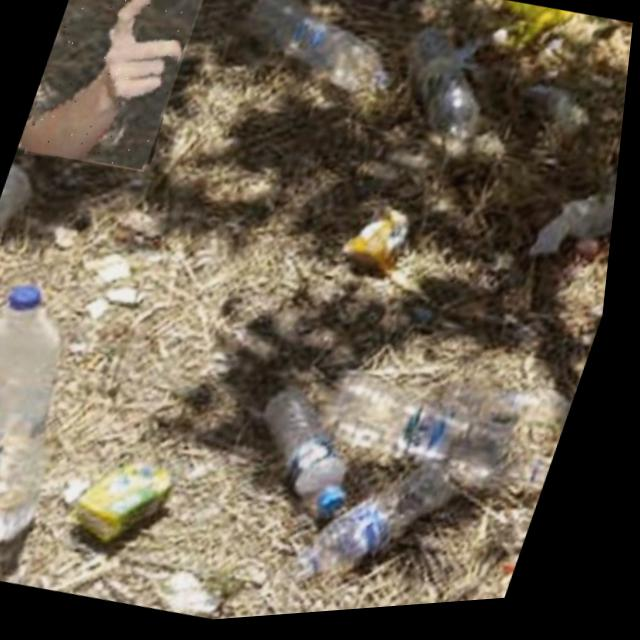Person in Rubble: (17, 0, 205, 181)
